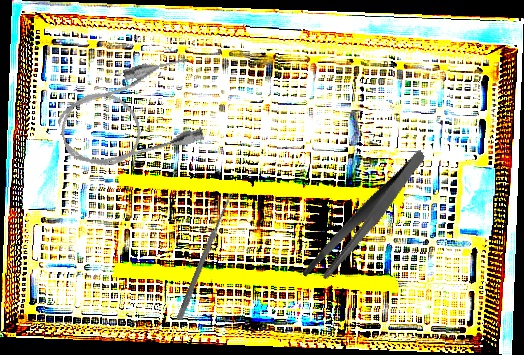Cannula: (48, 51, 213, 179)
Dressing Forceps: (280, 148, 452, 289)
Surgical Spoon: (176, 192, 234, 321)
